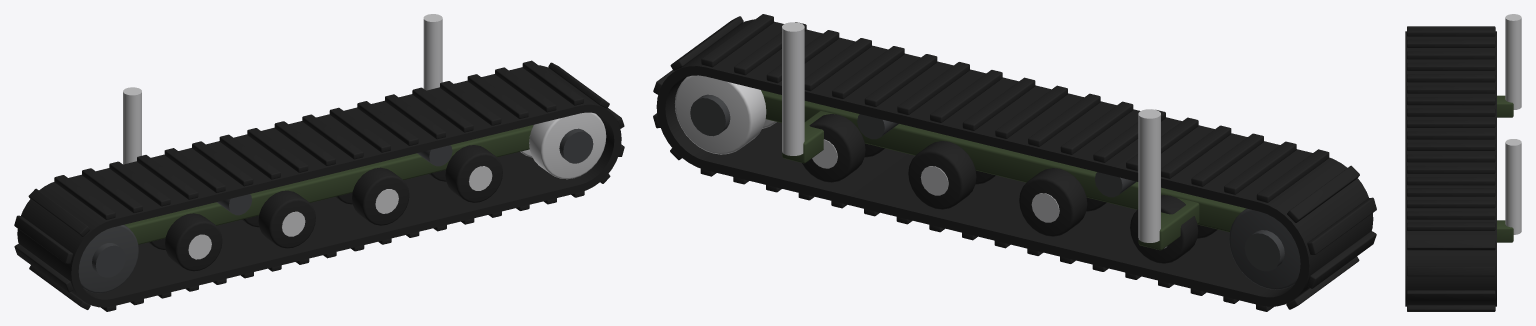
The model's file is track_right.glb.
3 renders of one model, left to right at view 1: azimuth 30°, elevation 25°; view 2: azimuth 150°, elevation 25°; view 3: azimuth 270°, elevation 25°, orthographic. The views are drawn at different scales.
Parts seen in each view (by area): view 1: track_right; view 2: track_right; view 3: track_right.
Boxes of the visible parts, x1=… form: track_right: x1=14, y1=14, x2=624, y2=311; track_right: x1=653, y1=14, x2=1376, y2=311; track_right: x1=1405, y1=14, x2=1521, y2=311.
Size of the model in its own units: 1.67 by 0.4402 by 0.355.
